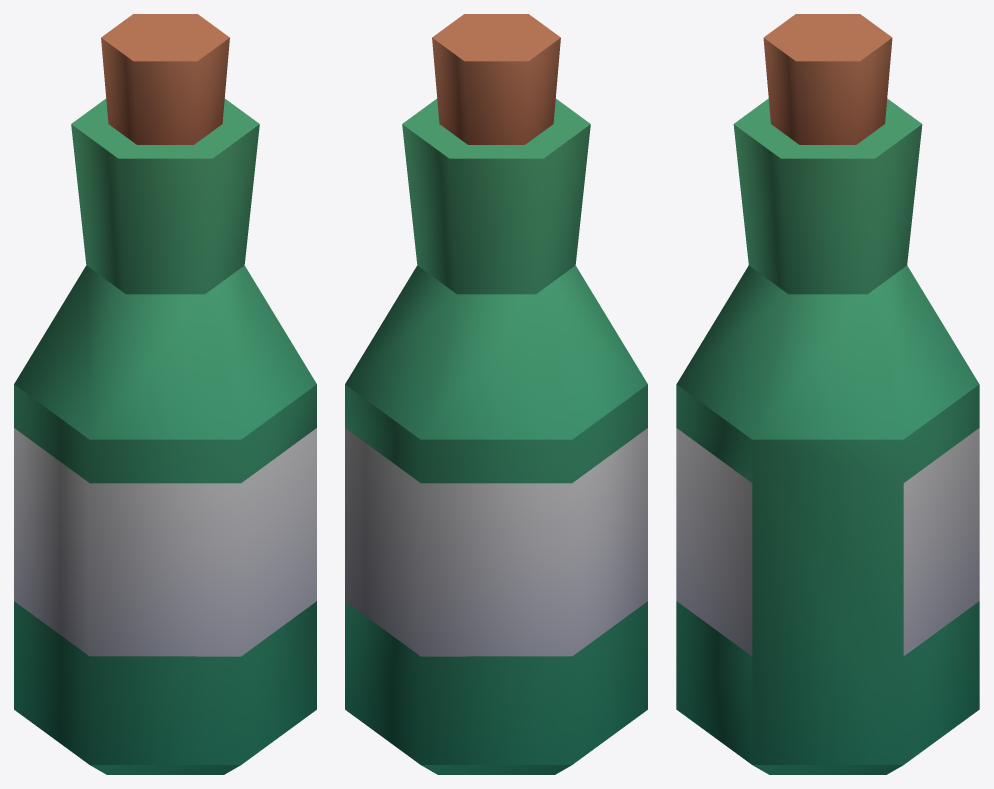
The model's file is KS_bottle.glb.
3 renders of one model, left to right at view 1: azimuth 30°, elevation 25°; view 2: azimuth 150°, elevation 25°; view 3: azimuth 270°, elevation 25°, orthographic.
Parts seen in each view (by area): view 1: bottle; view 2: bottle; view 3: bottle.
Boxes of the visible parts, box(x1,y1,x2,y2) form: bottle: box(14, 14, 316, 774); bottle: box(345, 14, 647, 774); bottle: box(676, 14, 979, 774).
Size of the model in its own units: 0.0527 by 0.1539 by 0.0608.
